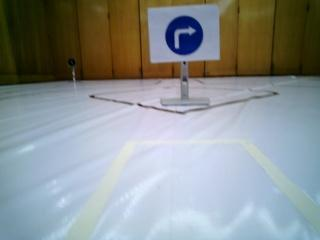right: (151, 11, 218, 59)
